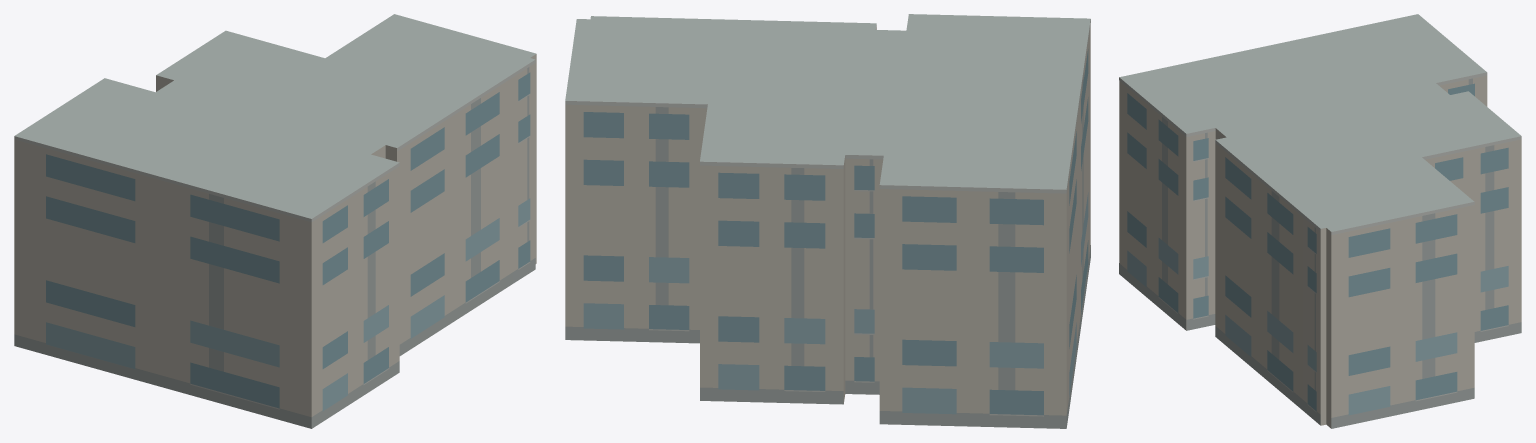
Rendered from residential-e5bf852d-6dc5-451a-a46f-ad64ea2eeb3f.glb.
3 views of the same model, side by side, from view 1: azimuth 30°, elevation 25°; view 2: azimuth 150°, elevation 25°; view 3: azimuth 270°, elevation 25° (orthographic). The views are drawn at different scales.
Parts seen in each view (by area): view 1: residential-e5bf852d-6dc5-451a-a46f-ad64ea2eeb3f.tmp; view 2: residential-e5bf852d-6dc5-451a-a46f-ad64ea2eeb3f.tmp; view 3: residential-e5bf852d-6dc5-451a-a46f-ad64ea2eeb3f.tmp.
Part boxes in pixels (bbox=[...]): residential-e5bf852d-6dc5-451a-a46f-ad64ea2eeb3f.tmp: bbox=[14, 14, 536, 428]; residential-e5bf852d-6dc5-451a-a46f-ad64ea2eeb3f.tmp: bbox=[565, 14, 1090, 428]; residential-e5bf852d-6dc5-451a-a46f-ad64ea2eeb3f.tmp: bbox=[1119, 14, 1521, 428].
Size of the model in its own units: 36.22 by 15.25 by 28.26.
